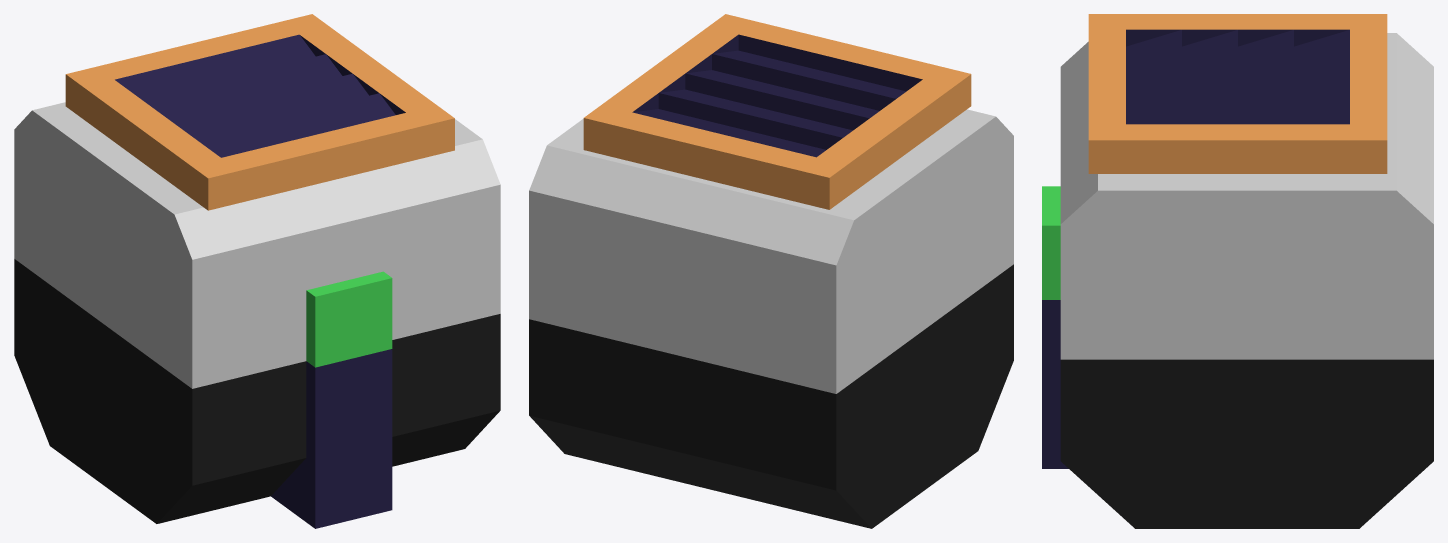
File: Chest.fbx
3 renders of one model, left to right at view 1: azimuth 30°, elevation 25°; view 2: azimuth 150°, elevation 25°; view 3: azimuth 270°, elevation 25°, orthographic. The views are drawn at different scales.
Parts seen in each view (by area): view 1: mergedBlocks; view 2: mergedBlocks; view 3: mergedBlocks.
Part boxes in pixels (x1=…): mergedBlocks: x1=14, y1=14, x2=500, y2=528; mergedBlocks: x1=529, y1=14, x2=1013, y2=528; mergedBlocks: x1=1042, y1=14, x2=1433, y2=528.
Size of the model in its own units: 10 by 11 by 10.5.
